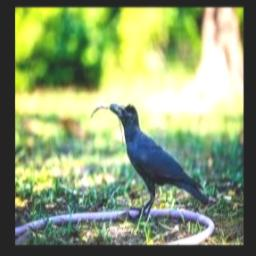Crow: (110, 104, 214, 213)
